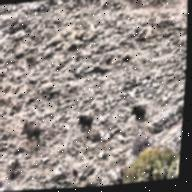boar: (16, 115, 46, 154), (75, 106, 95, 134), (128, 101, 149, 125)
